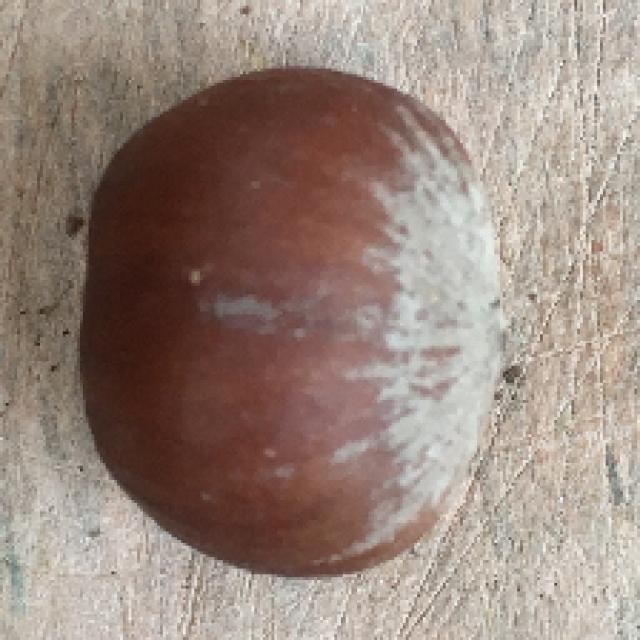qualityHazelnut: (66, 62, 514, 575)
